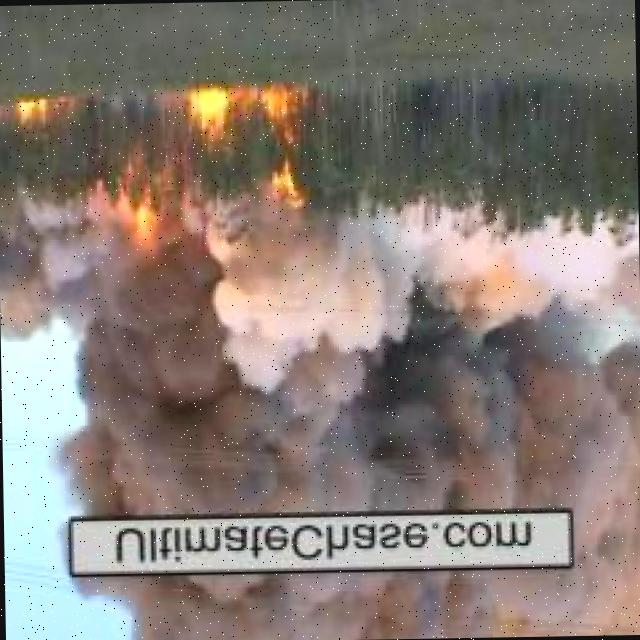fire: (186, 87, 306, 192), (131, 198, 162, 251), (20, 95, 60, 130)
